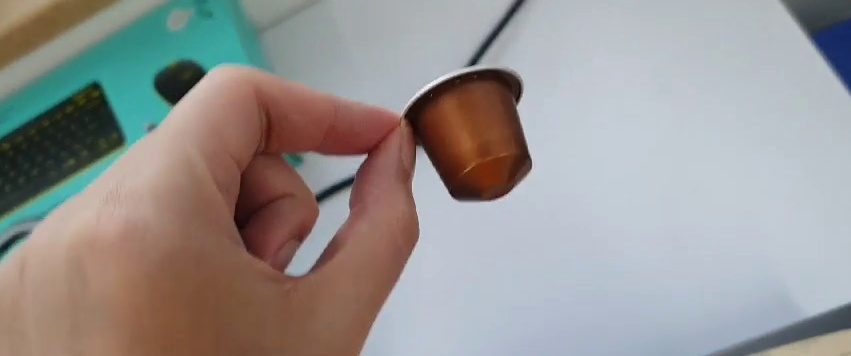capsule_3: (398, 65, 536, 204)
